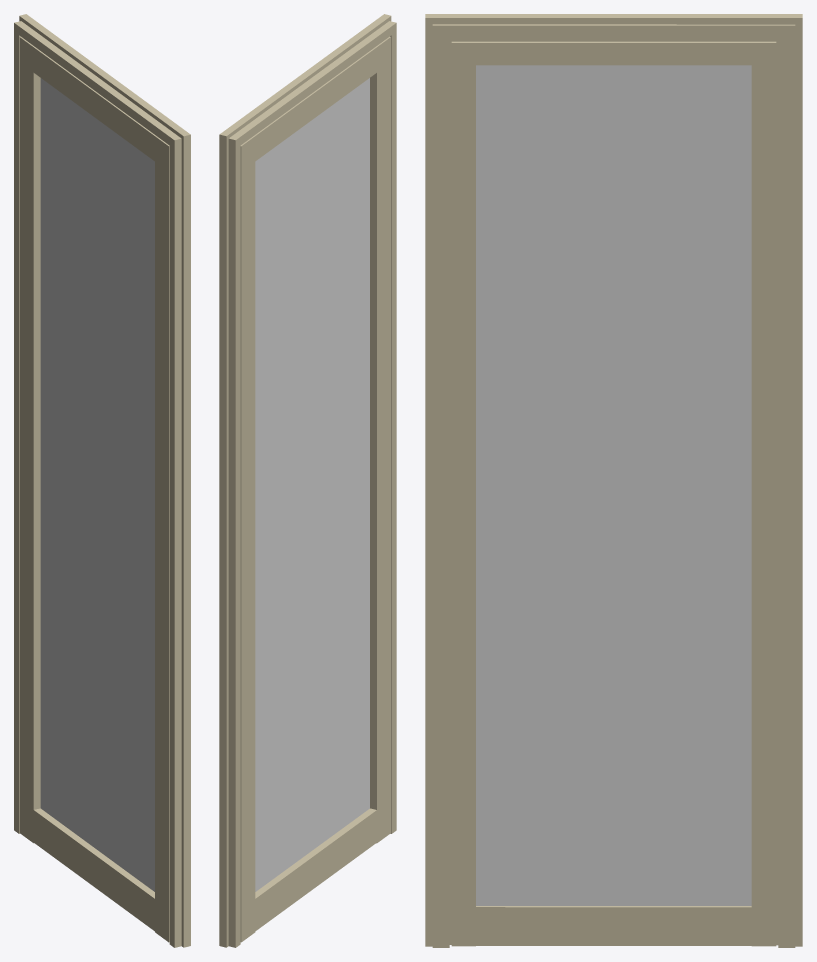
File: MainDoor1Transformed1.fbx
3 views of the same model, side by side, from view 1: azimuth 30°, elevation 25°; view 2: azimuth 150°, elevation 25°; view 3: azimuth 270°, elevation 25° (orthographic). The views are drawn at different scales.
Parts seen in each view (by area): view 1: 45-25-28-344_- Aluminium Glazed Single Door (EDT 09):EDT 09(; view 2: 45-25-28-344_- Aluminium Glazed Single Door (EDT 09):EDT 09(; view 3: 45-25-28-344_- Aluminium Glazed Single Door (EDT 09):EDT 09(.
Part boxes in pixels (x1,y1,x2,y2): 45-25-28-344_- Aluminium Glazed Single Door (EDT 09):EDT 09(: [14, 14, 190, 947]; 45-25-28-344_- Aluminium Glazed Single Door (EDT 09):EDT 09(: [219, 14, 396, 947]; 45-25-28-344_- Aluminium Glazed Single Door (EDT 09):EDT 09(: [425, 14, 802, 947].
Bounding box in the file's own units: 0.0657 × 3.03 × 1.12.
